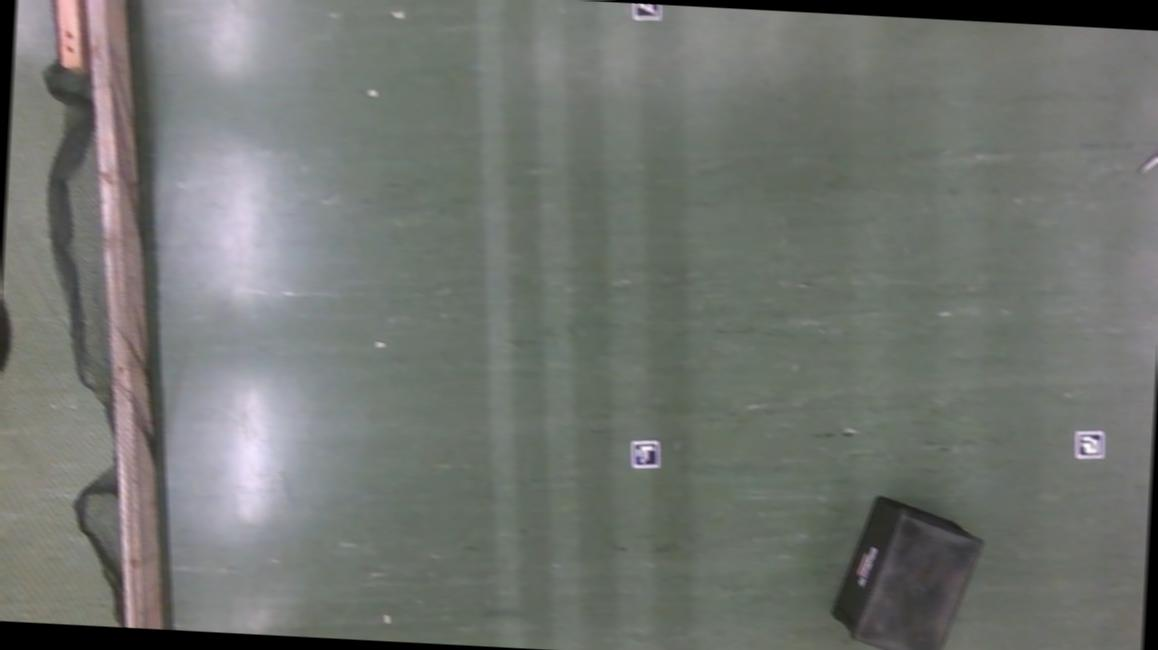probes: (1138, 137, 1158, 174)
rako: (826, 491, 986, 650)
